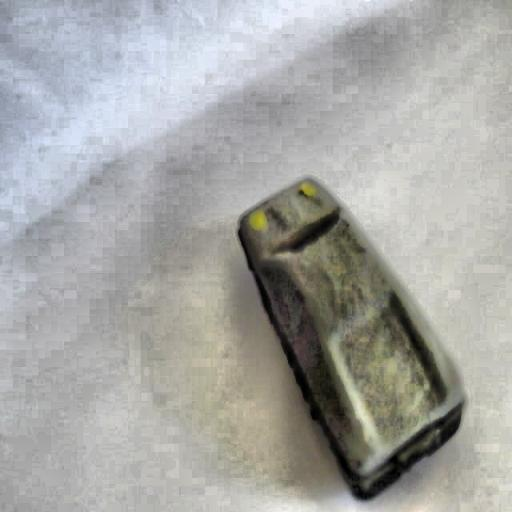normal_car: (235, 176, 465, 504)
